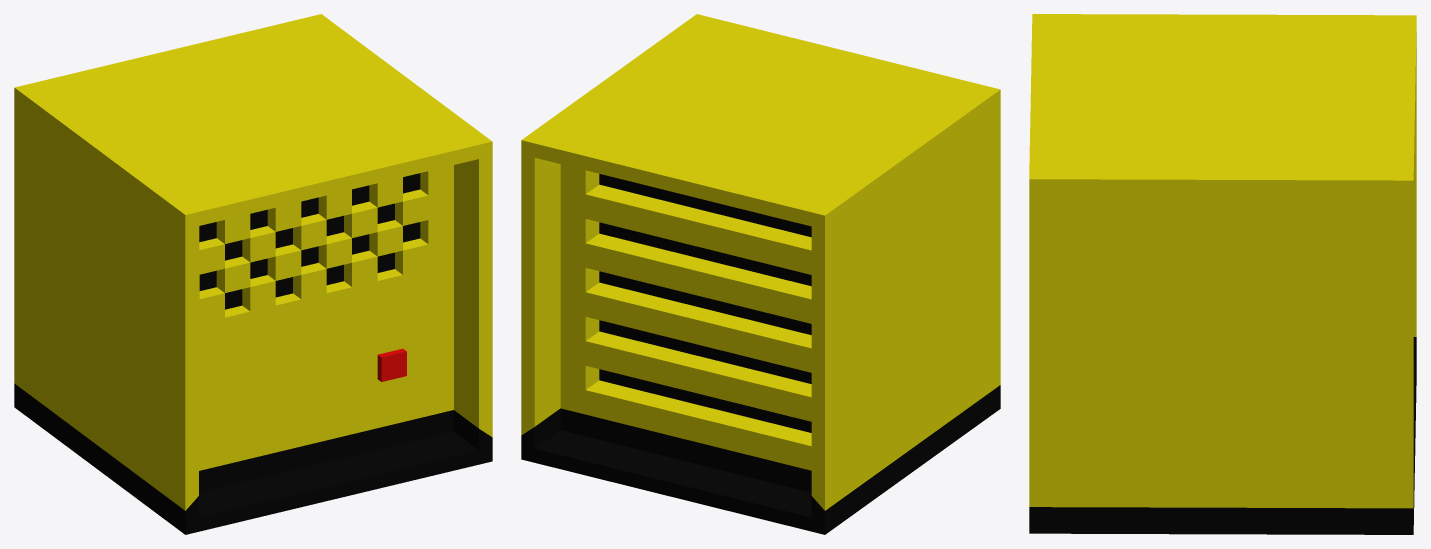
File: jeneratör.fbx
The picture shows the model from 3 angles, left to right: view 1: azimuth 30°, elevation 25°; view 2: azimuth 150°, elevation 25°; view 3: azimuth 270°, elevation 25°; orthographic projection. The views are drawn at different scales.
Parts seen in each view (by area): view 1: Cube.001; view 2: Cube.001; view 3: Cube.001.
Part boxes in pixels (x1,y1,x2,y2): Cube.001: (14,14,492,534); Cube.001: (521,14,1000,534); Cube.001: (1029,14,1416,534).
Size of the model in its own units: 1055 by 1047 by 1037.
